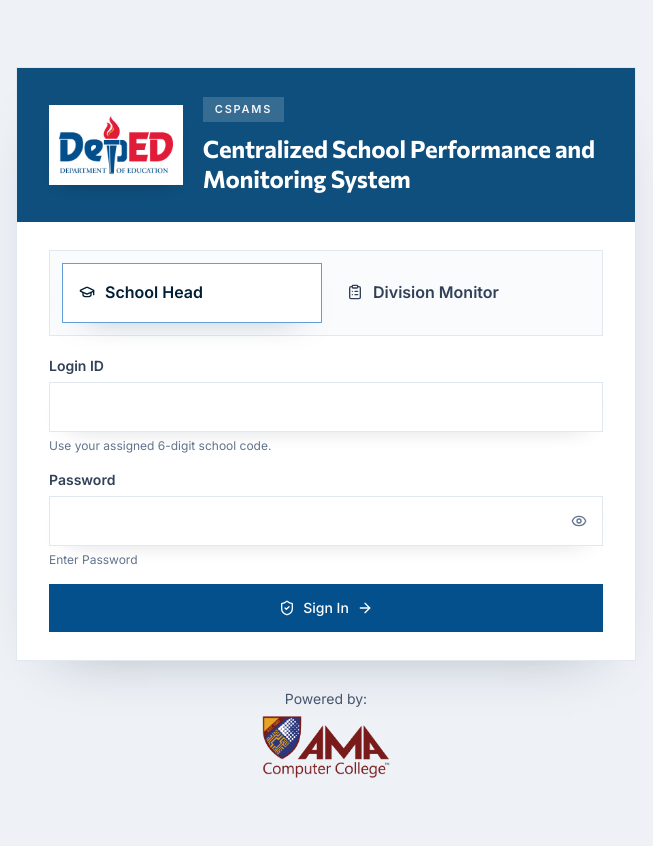
Test: Login › shows a monitor MFA delivery message when credentials are accepted but email delivery fails
Click the button "Division Monitor" at (460, 293), box top-left (330, 263), bottom-right (590, 323)
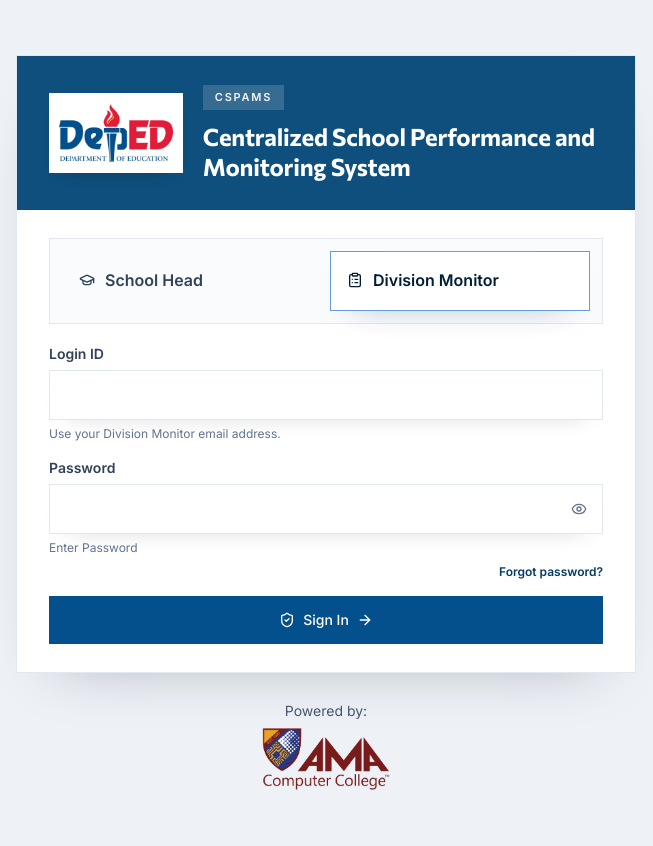
Type "cspamsmonitor@gmail.com" into the field labelled "Login ID" at (326, 395), box top-left (49, 370), bottom-right (603, 420)
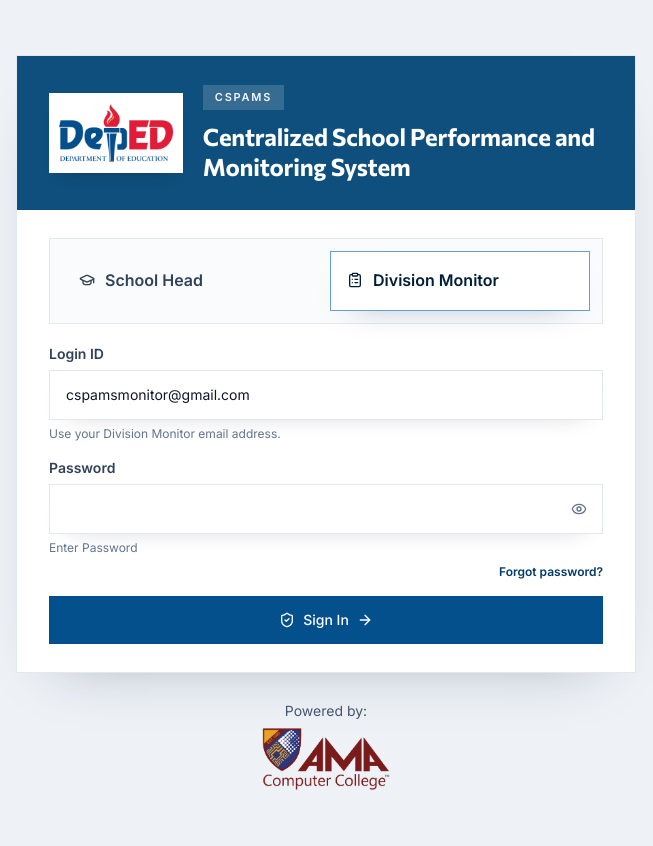
Type "Demo@123456" into the password field labelled "Password" at (326, 509), box top-left (49, 484), bottom-right (603, 534)
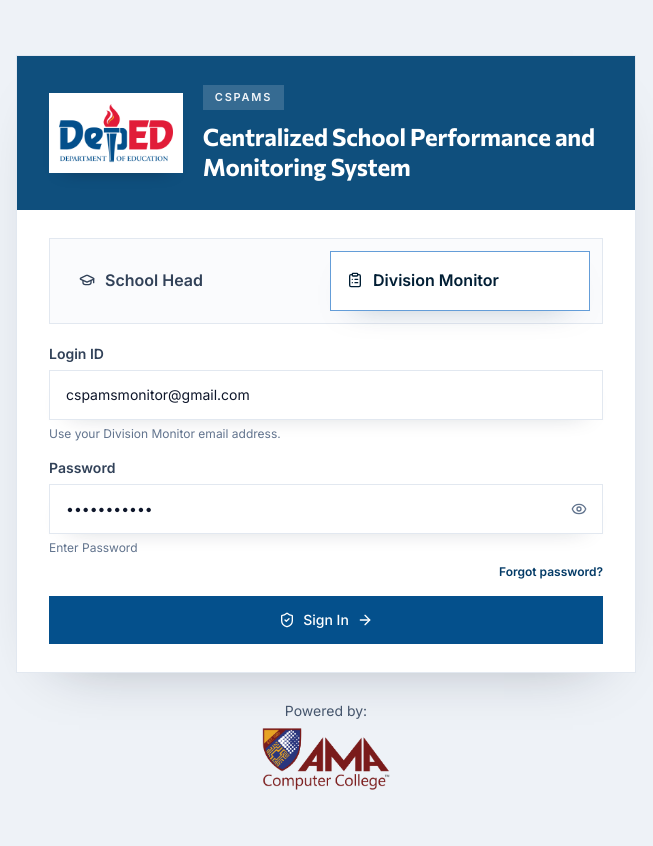
Submit the form named "sign in", box top-left (49, 344), bottom-right (603, 644)
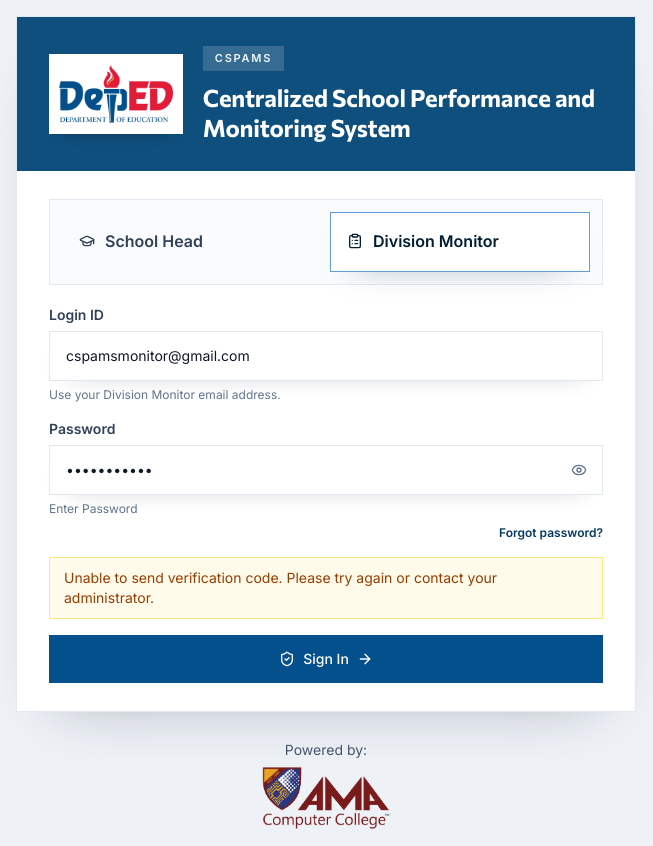
Expected: the text "Unable to send verification code. Please try again or contact your administrator." is shown, top-left (64, 569), bottom-right (497, 606)
